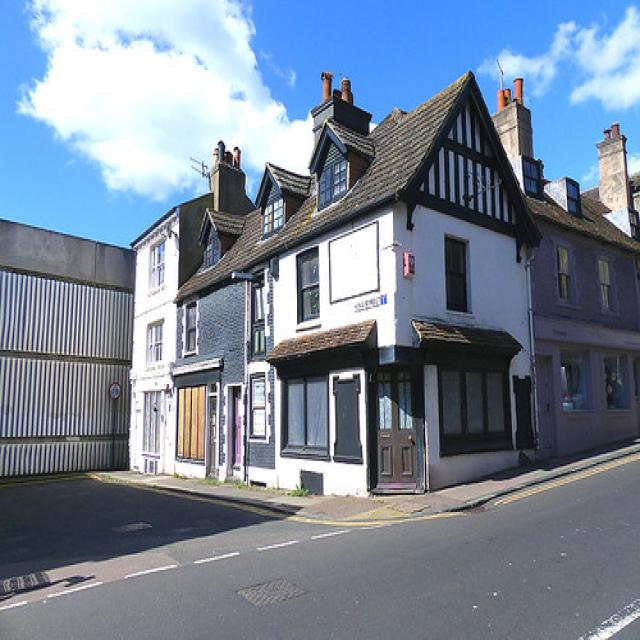Normal_building: (123, 58, 540, 509)
